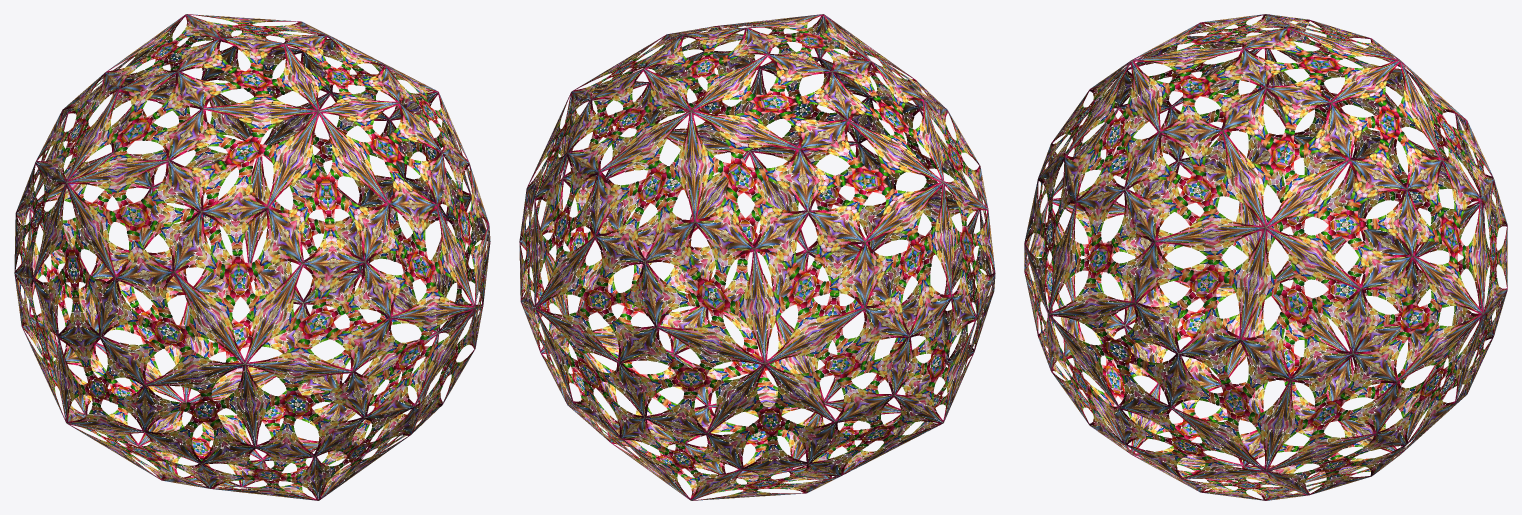
File: PentagonalHexecontahedron.obj
3 renders of one model, left to right at view 1: azimuth 30°, elevation 25°; view 2: azimuth 150°, elevation 25°; view 3: azimuth 270°, elevation 25°, orthographic.
Bounding box in the file's own units: 4.19 × 4.19 × 4.19.
1 material, 1 textured.
